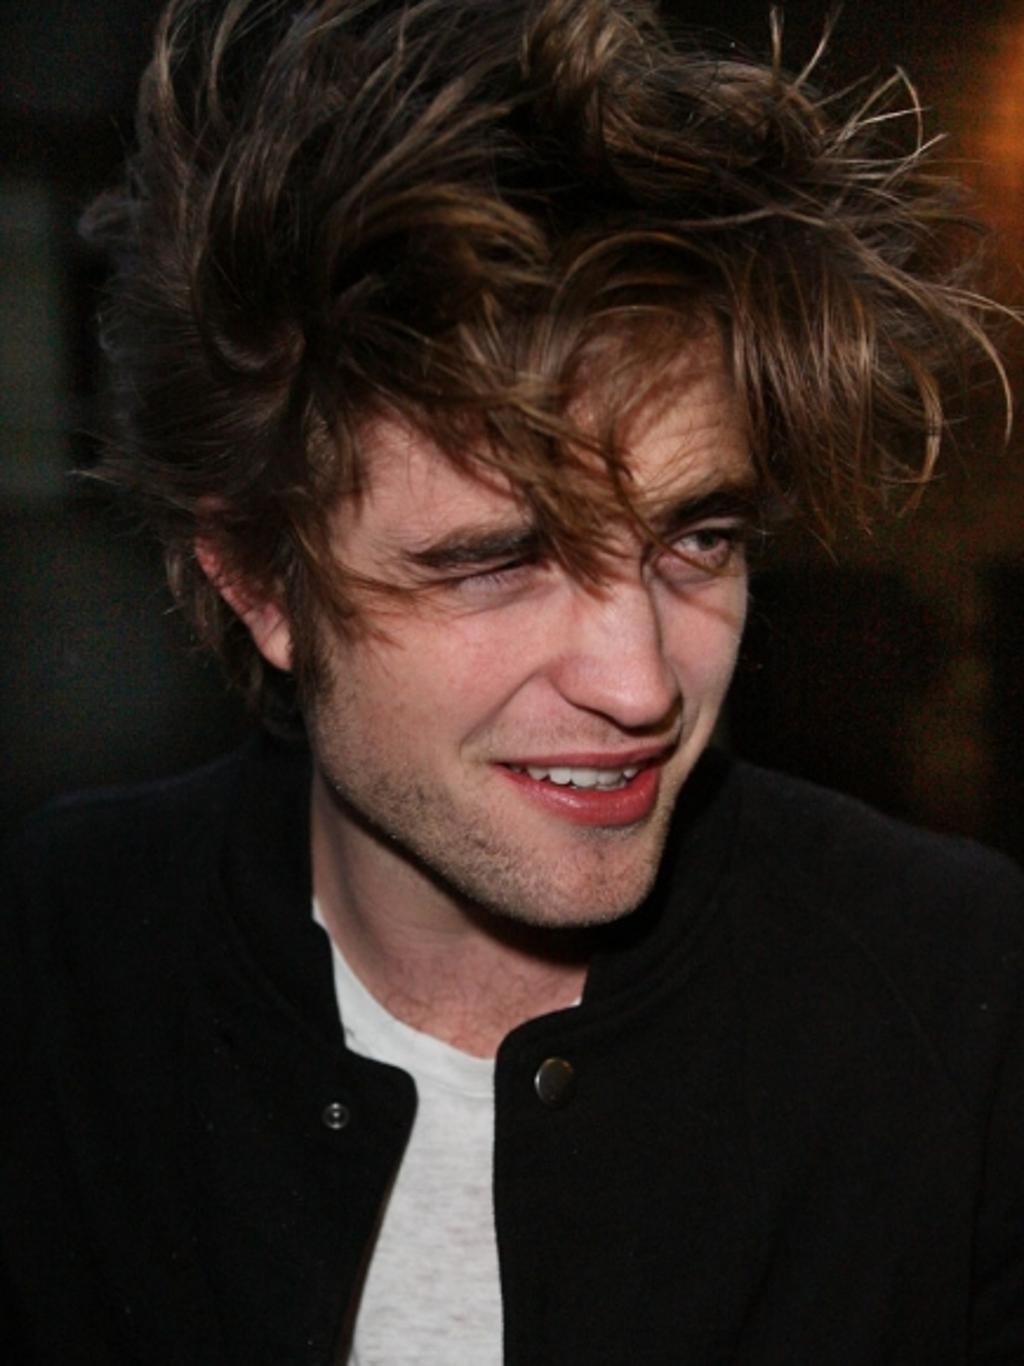face: (307, 280, 750, 925)
